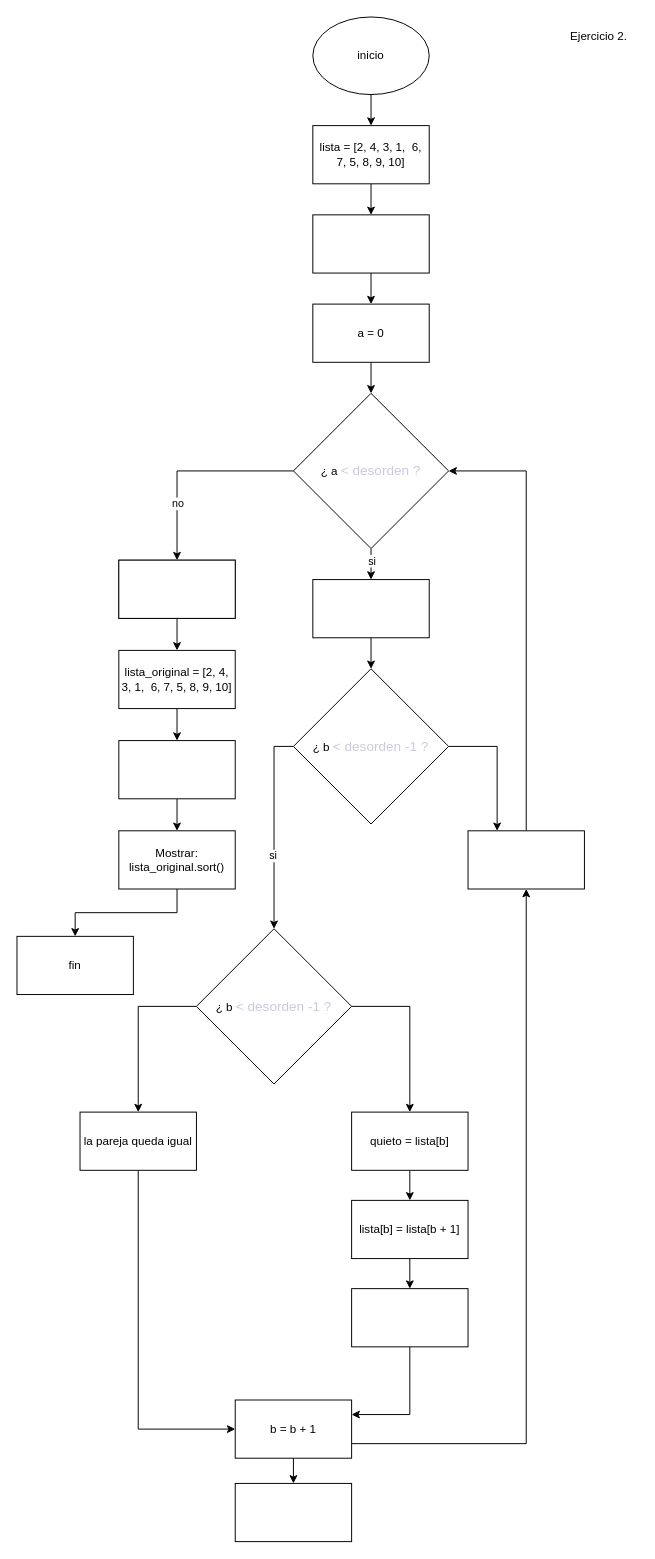
This 655x1559 diagram has some shape labels left out. The shapes that lost their labels are listed below. From the top down, each one's centre as x and y in pixels, then its label:
At pixel 370 243: "desorden = len(lista)".
At pixel 176 588: "Mostrar: lista ordenada con ciclos".
At pixel 370 608: "b = 0".
At pixel 176 769: "lista_original.sort()".
At pixel 525 859: "a = a + 1".
At pixel 409 1317: "lista[b + 1] = quieto".
At pixel 293 1512: "fin 2".
